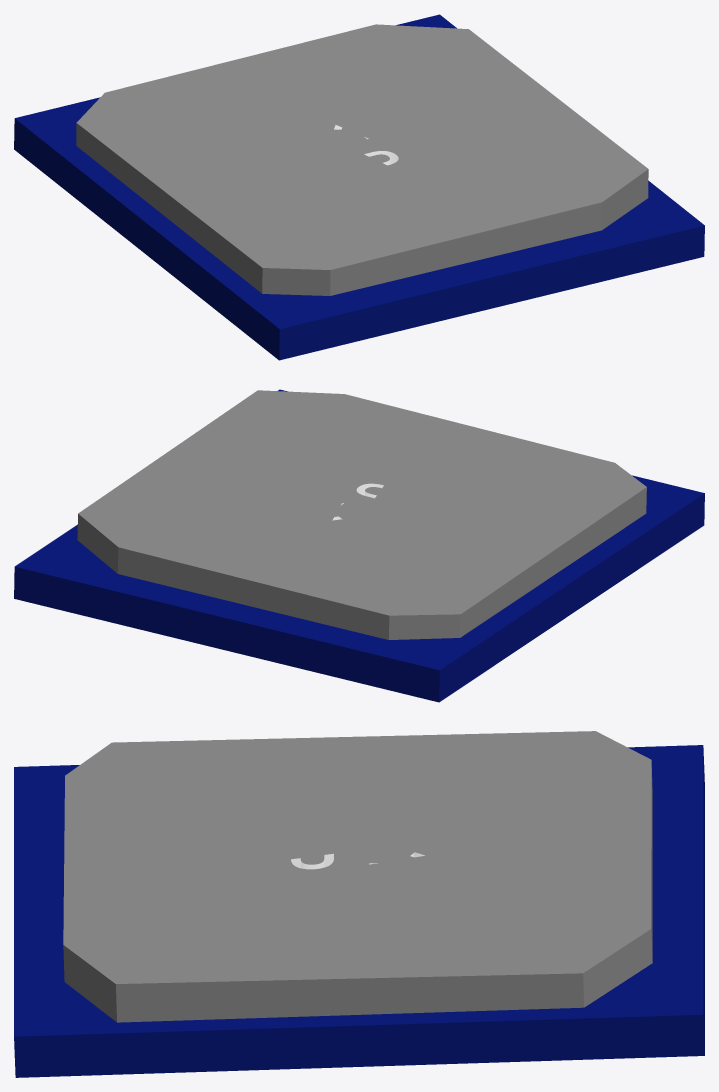
Rendered from CPU2.fbx.
3 renders of one model, top to bottom at view 1: azimuth 30°, elevation 25°; view 2: azimuth 150°, elevation 25°; view 3: azimuth 270°, elevation 25°, orthographic. The views are drawn at different scales.
Parts seen in each view (by area): view 1: Cube.001, Cube; view 2: Cube.001, Cube; view 3: Cube.001, Cube.
Boxes of the visible parts, left/top/right/bottom form: Cube.001: left=76, top=24, right=648, bottom=295; Cube: left=14, top=14, right=704, bottom=360; Cube.001: left=77, top=390, right=646, bottom=639; Cube: left=14, top=389, right=704, bottom=702; Cube.001: left=63, top=731, right=652, bottom=1022; Cube: left=14, top=745, right=704, bottom=1077.
Bounding box in the file's own units: 575 × 95.28 × 622.
